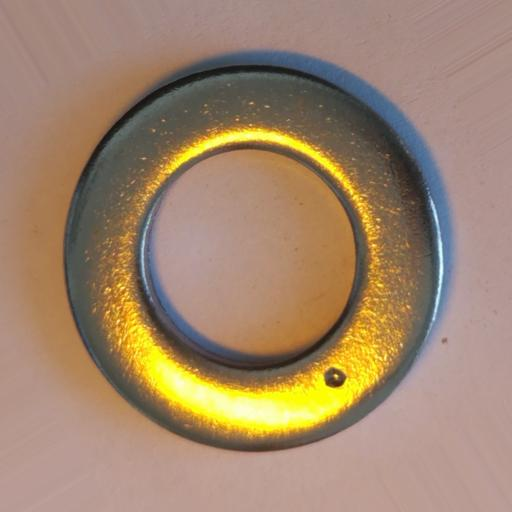circular_cavity: (324, 367, 346, 388)
